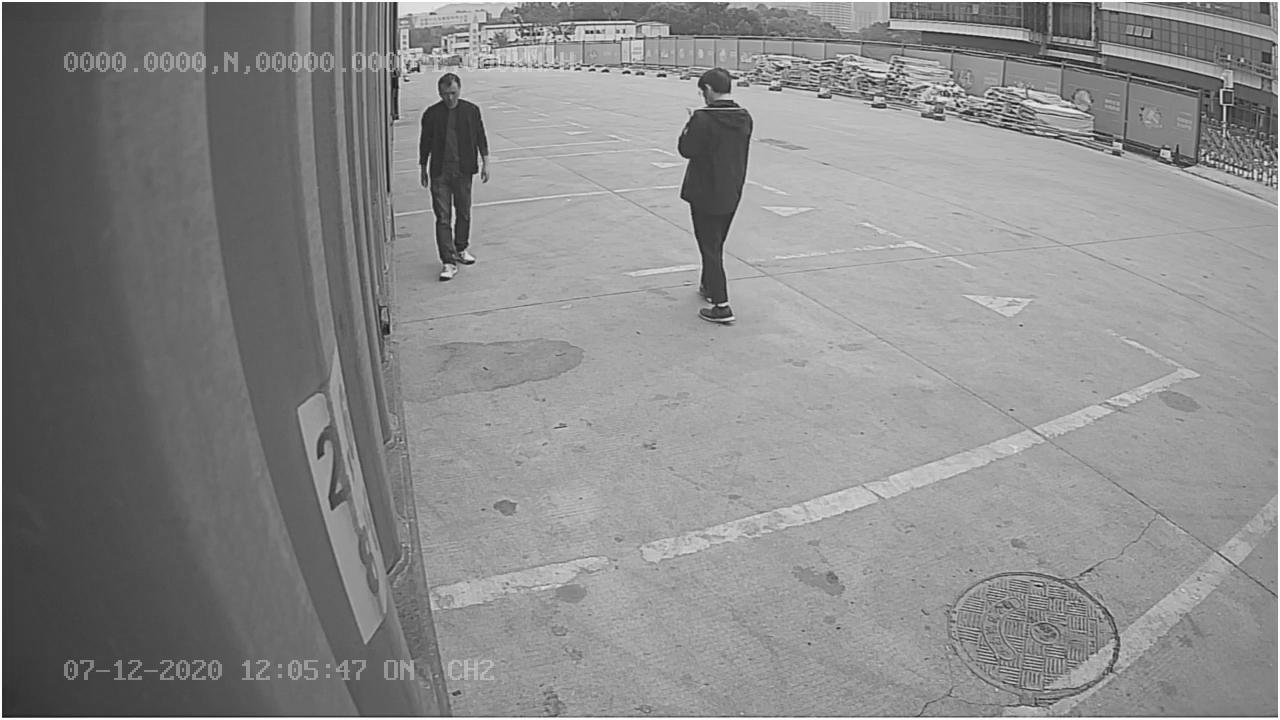person: (674, 69, 758, 329)
